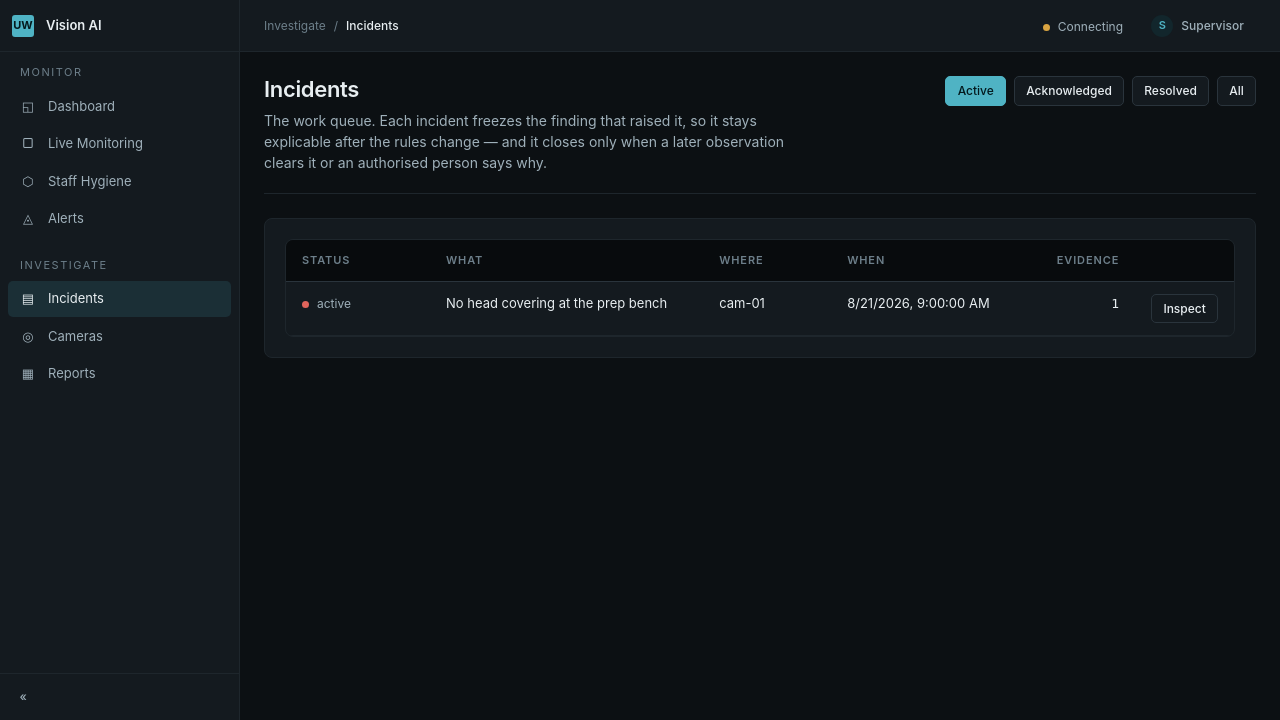
Scenario: the incident queue › offers acknowledge but not resolve to a supervisor
This screenshot has width=1280, height=720.
Click the button "Inspect" at (1185, 309), box x1=1151 y1=294 x2=1218 y2=324
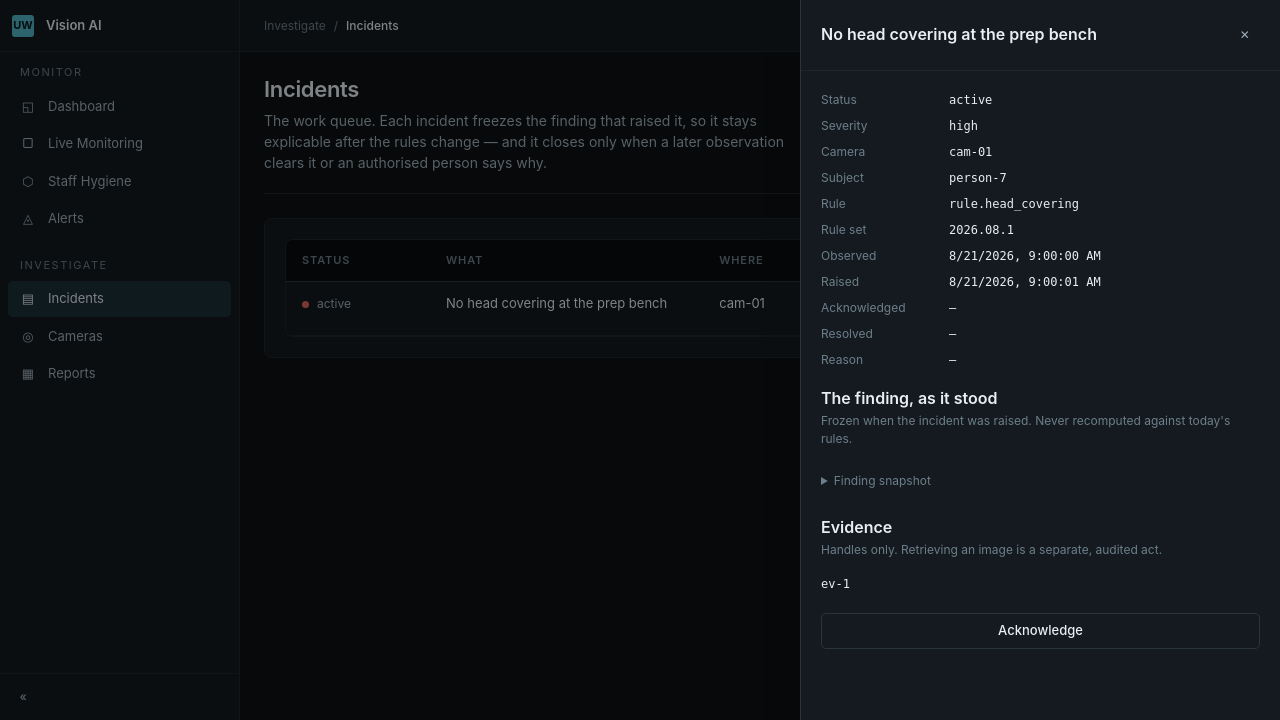
Result: the button "Acknowledge" is shown at x1=821 y1=613 x2=1260 y2=649
